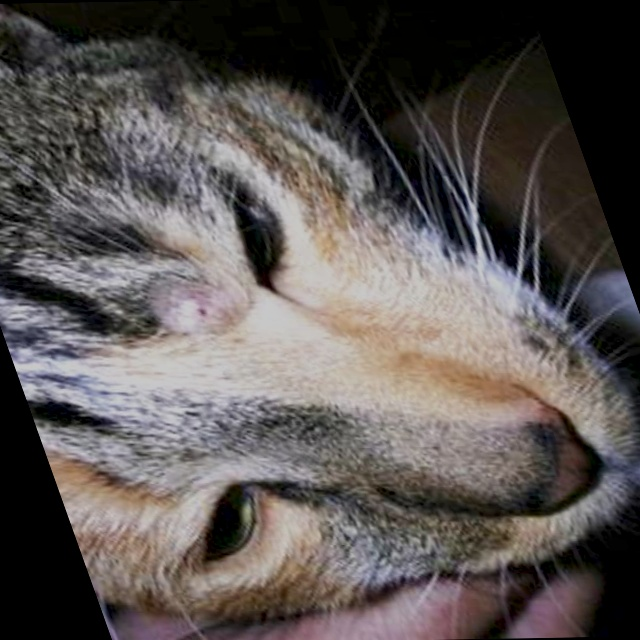lump_and_bump: (146, 278, 245, 333)
